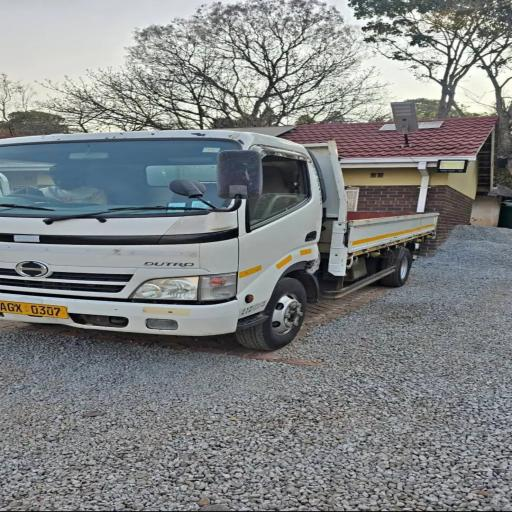number-plates: (0, 300, 71, 322)
